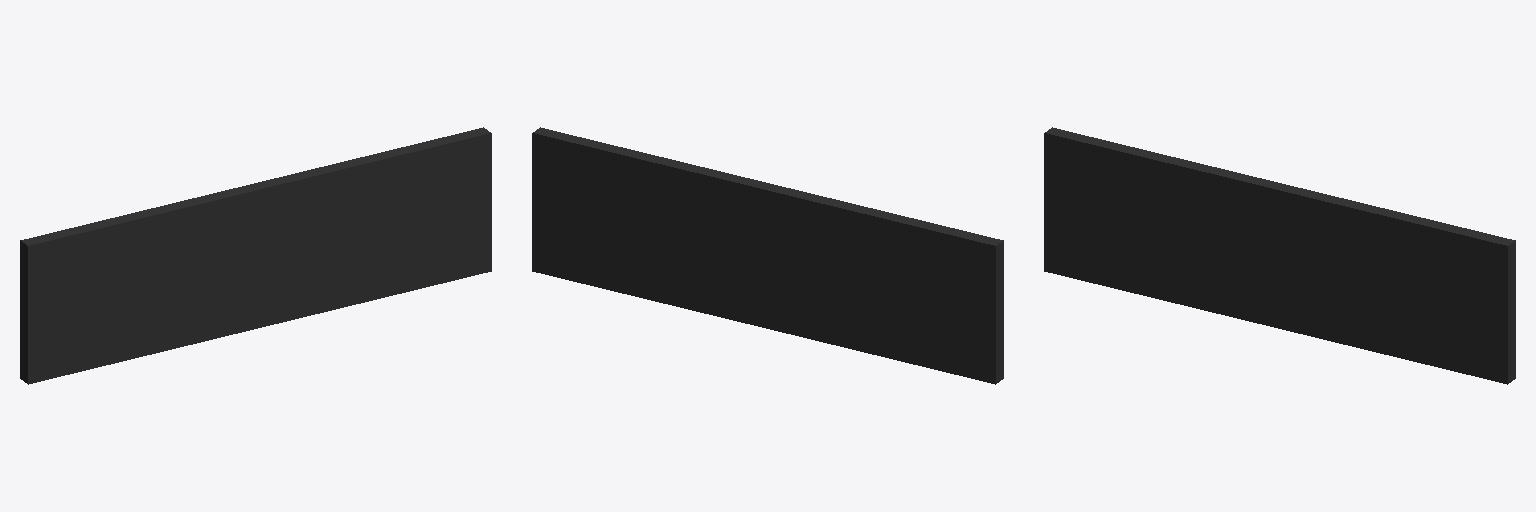
The robot description file, URDF, robot "wall":
<robot name="wall">
  <link name="baseLink">
   
    <inertial>
      <origin rpy="0 0 0" xyz="0 0 0" />
       <mass value="10" />
       <inertia ixx="0" ixy="0" ixz="0" iyy="0" iyz="0" izz="0" />
    </inertial>
    <visual>
      <origin rpy="0 0 0" xyz="0 0 0" />
      <geometry>
			  <box size="3.5 0.1 1" />
      </geometry>
       <material name="grey">
        <color rgba="0.24 0.24 0.24 1" />
      </material>
    </visual>
    <collision>
      <origin rpy="0 0 0" xyz="0 0 0" />
      <geometry>
	 	      <box size="3.5 0.1 1" />
      </geometry>
    </collision>
  </link>
</robot>

--- Render facts (derived) ---
3 views of the same robot in one strip: view 1: azimuth 30°, elevation 25°; view 2: azimuth 150°, elevation 25°; view 3: azimuth 330°, elevation 25° (orthographic).
Model wall with 1 links and 0 joints (none), rooted at baseLink, posed all joints at 0.
Links seen in each view (by area): view 1: baseLink; view 2: baseLink; view 3: baseLink.
Link boxes in pixels (<box>): baseLink: <box>20,127,491,384</box>; baseLink: <box>532,127,1003,384</box>; baseLink: <box>1044,127,1515,384</box>.
Size in the robot's own frame: 3.5 by 0.1 by 1 metres.
Geometry: primitives only (box / cylinder / sphere), no mesh files.
